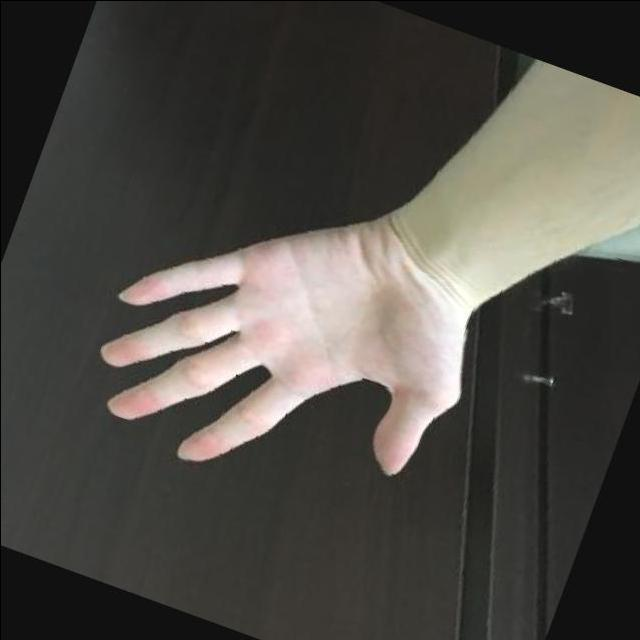Hand: (98, 190, 482, 481)
